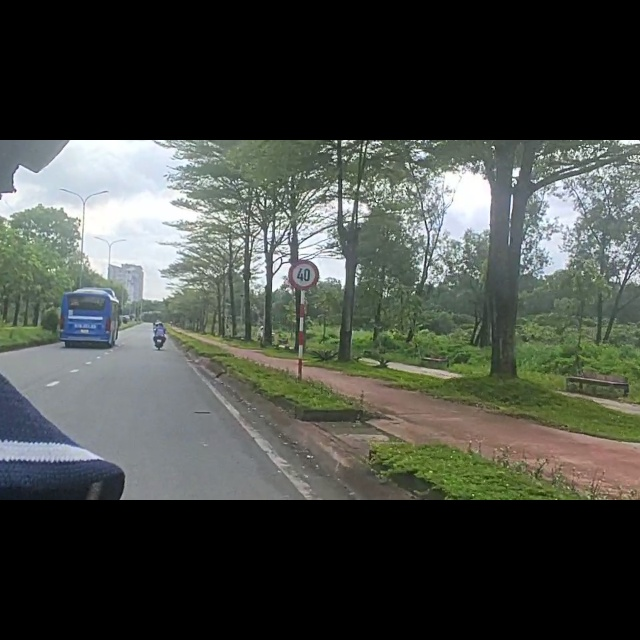Tốc độ tối đa cho phép 40km/h: (290, 259, 319, 292)
